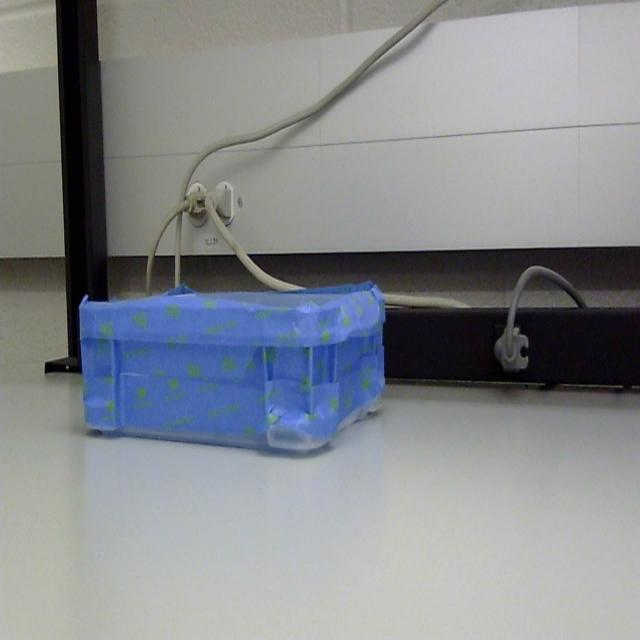bucket: (78, 282, 386, 458)
